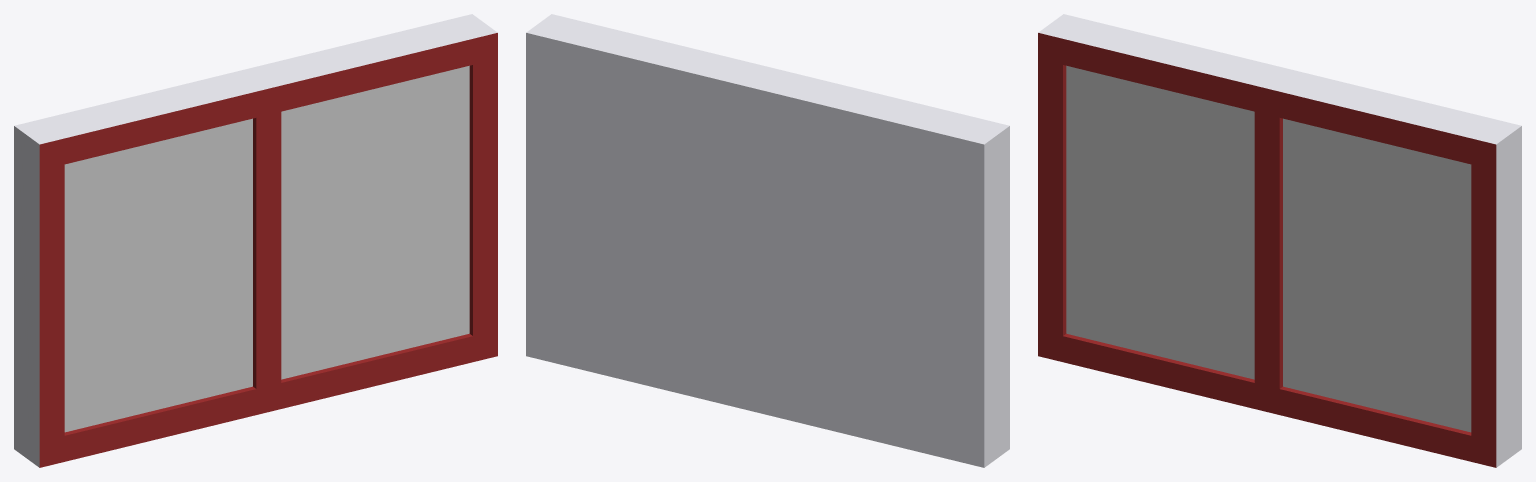
File: Asian_Prop_Building_Modular_Wall_w_Upright_01.FBX
3 views of the same model, side by side, from view 1: azimuth 30°, elevation 25°; view 2: azimuth 150°, elevation 25°; view 3: azimuth 330°, elevation 25° (orthographic).
Parts seen in each view (by area): view 1: Asian_Prop_Building_Modular_Wall_w_Upright_01; view 2: Asian_Prop_Building_Modular_Wall_w_Upright_01; view 3: Asian_Prop_Building_Modular_Wall_w_Upright_01.
Part boxes in pixels (x1,y1,x2,y2): Asian_Prop_Building_Modular_Wall_w_Upright_01: (14,14,497,467); Asian_Prop_Building_Modular_Wall_w_Upright_01: (526,14,1009,467); Asian_Prop_Building_Modular_Wall_w_Upright_01: (1038,14,1521,467).
Size of the model in its own units: 5167 by 3485 by 500.
